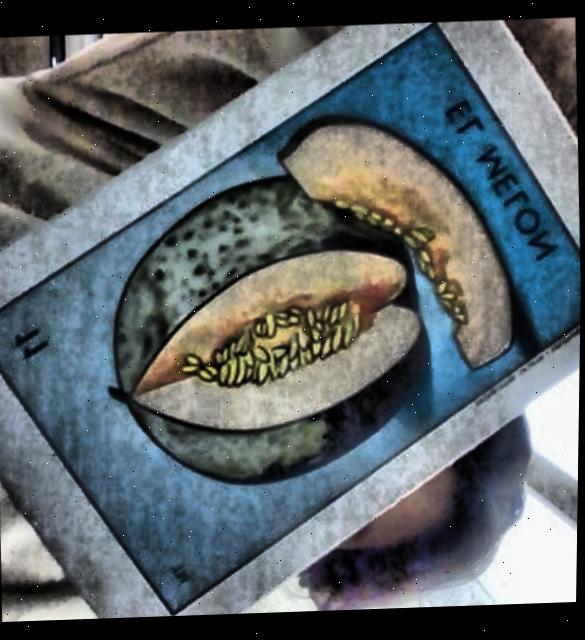El Melon: (0, 25, 581, 613)
